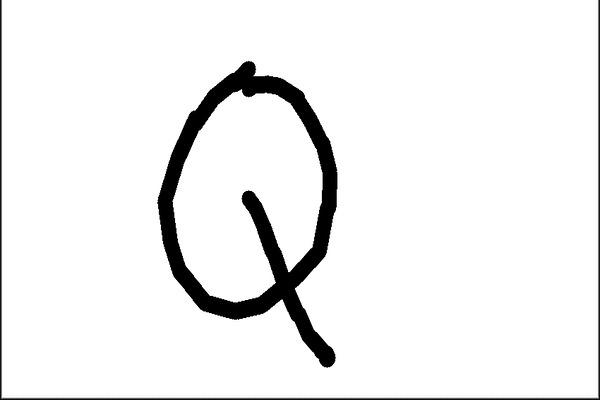Q: (128, 53, 362, 372)
